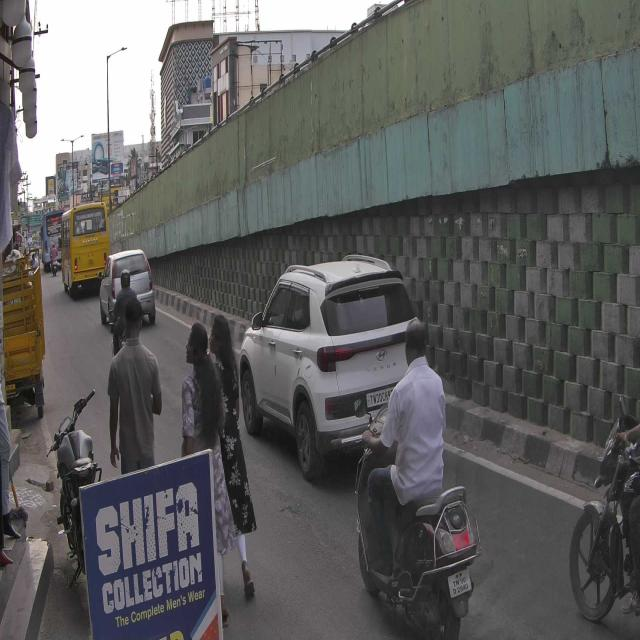single_rider: (352, 313, 481, 640)
